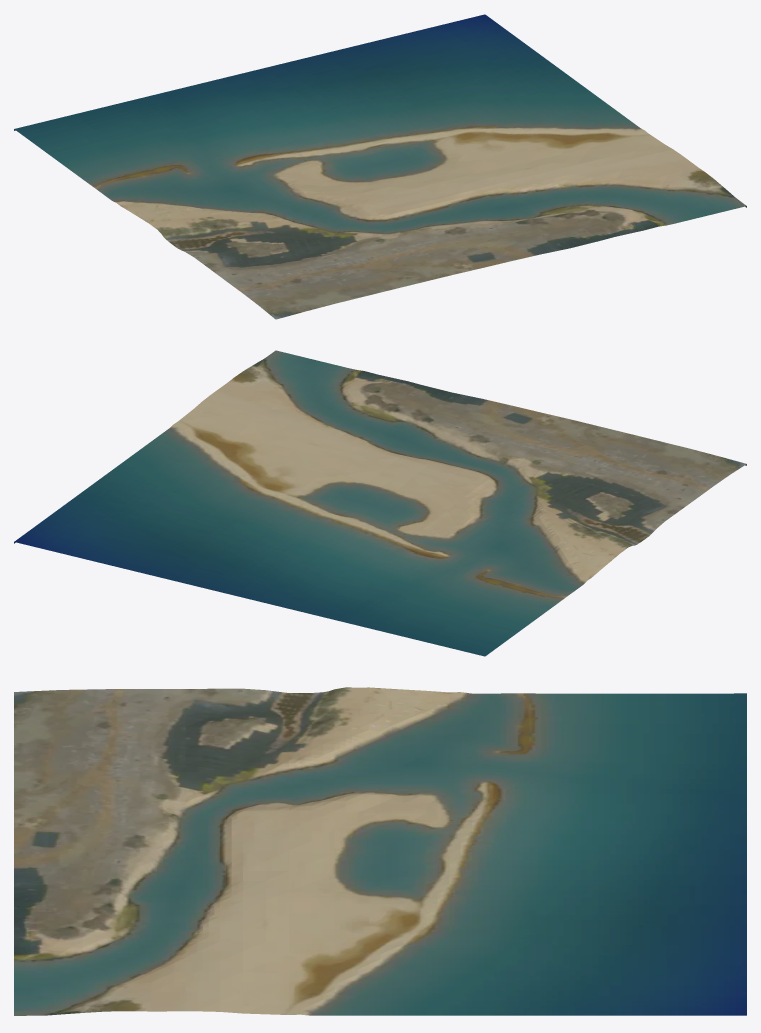
3 renders of one model, top to bottom at view 1: azimuth 30°, elevation 25°; view 2: azimuth 150°, elevation 25°; view 3: azimuth 270°, elevation 25°, orthographic. The views are drawn at different scales.
Size of the model in its own units: 250 by 3.42 by 241.
Materials: 1 (1 with a texture image).
